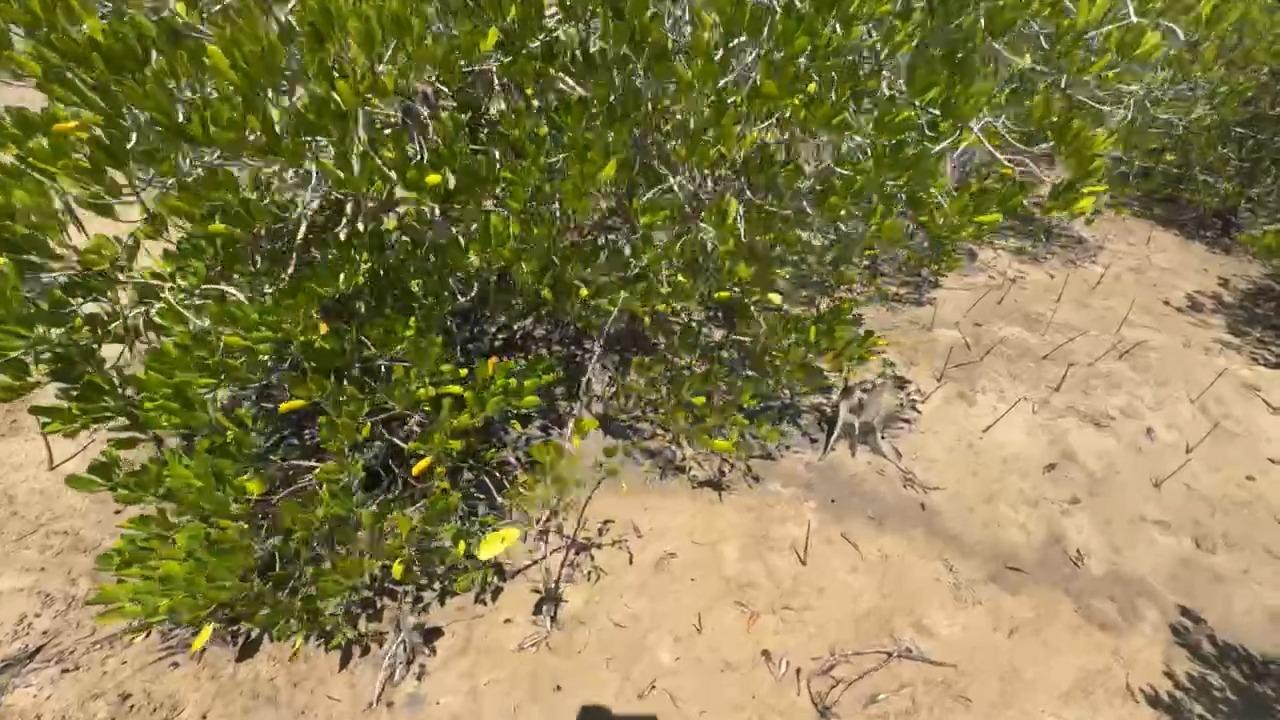Tree: (981, 398, 1022, 432), (1191, 368, 1228, 404), (1042, 331, 1088, 359), (1187, 421, 1221, 453), (35, 415, 54, 472), (1155, 459, 1192, 487), (1087, 343, 1117, 367), (1116, 298, 1136, 333), (966, 287, 992, 313), (1117, 339, 1149, 360), (1054, 362, 1076, 392), (937, 345, 954, 382), (980, 336, 1006, 360), (840, 533, 864, 559), (997, 276, 1018, 305), (1091, 263, 1111, 290), (1041, 306, 1057, 336), (1055, 273, 1069, 303), (802, 520, 811, 565), (1064, 551, 1080, 569), (928, 303, 937, 331), (1005, 566, 1029, 575), (609, 618, 628, 628), (1146, 229, 1154, 245), (692, 623, 700, 633)
